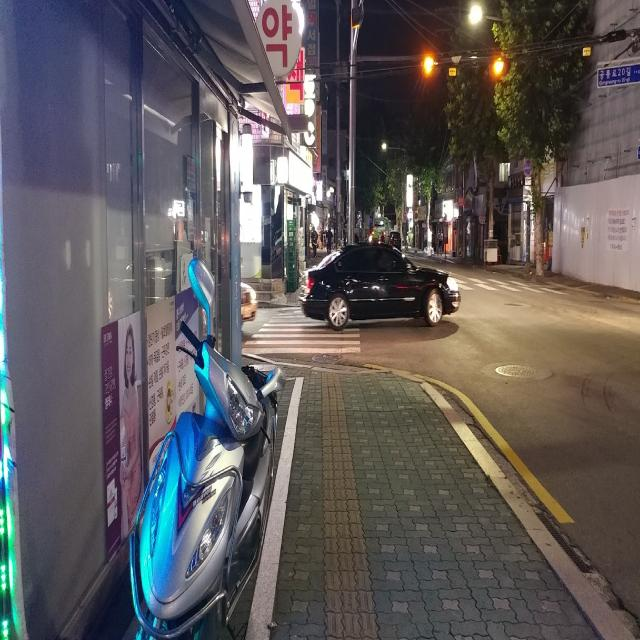횡단보도: (240, 306, 361, 355), (466, 275, 535, 295)
